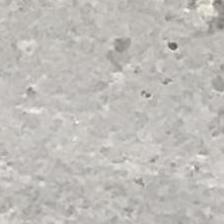Non_Crack: (34, 22, 211, 196)
